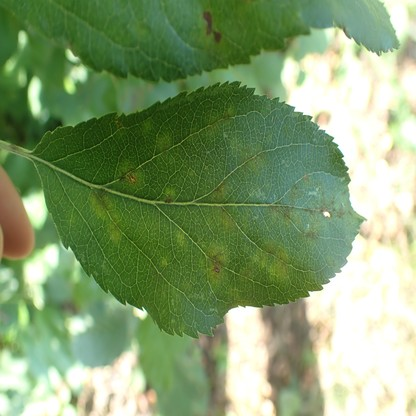scab: (291, 174, 352, 241), (255, 244, 289, 284), (206, 242, 228, 286), (205, 103, 233, 135), (240, 142, 267, 173), (118, 160, 143, 188), (202, 10, 221, 43), (91, 189, 111, 217), (271, 201, 291, 224), (218, 208, 237, 230), (110, 217, 122, 249), (212, 176, 227, 199), (155, 133, 171, 151), (161, 187, 175, 201), (239, 268, 252, 282), (176, 227, 185, 247), (143, 120, 150, 133), (161, 255, 167, 265)
